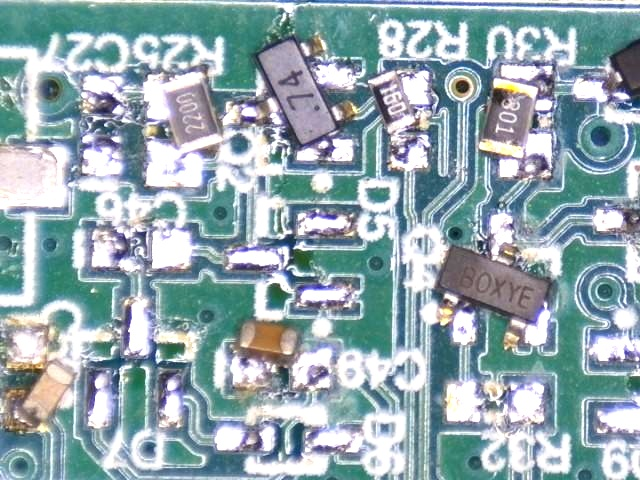pcb_defect: (224, 32, 357, 162), (434, 214, 552, 349), (143, 69, 224, 188), (478, 63, 556, 181), (3, 316, 76, 428), (230, 319, 333, 391), (366, 69, 433, 171), (574, 37, 640, 104)
